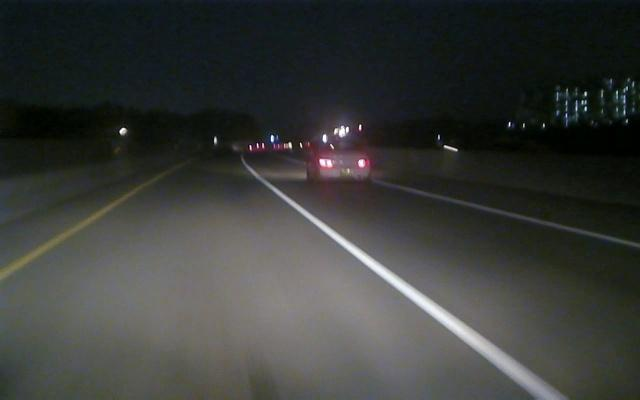lane: (245, 164, 568, 398), (0, 170, 170, 284), (378, 180, 640, 250)
